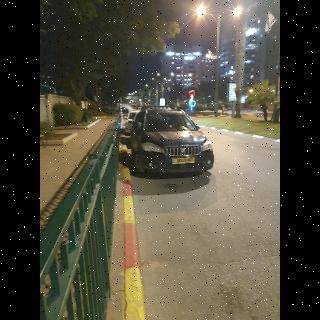LicensePlate: (174, 158, 195, 163)
